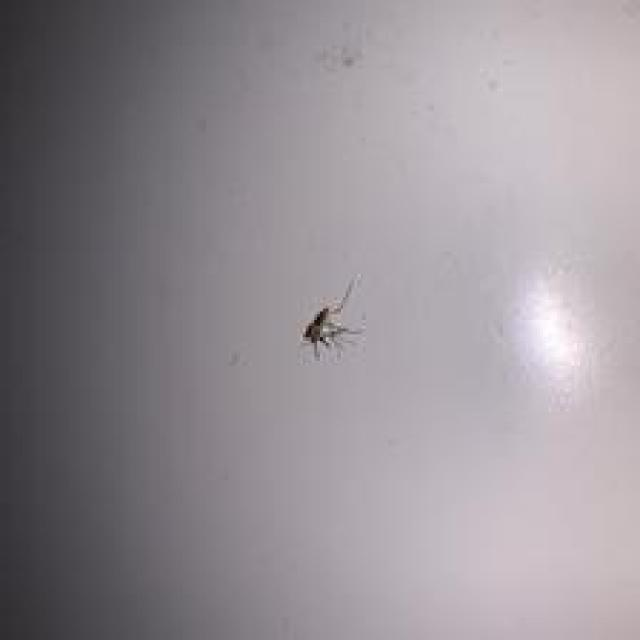Culex: (300, 274, 363, 360)
